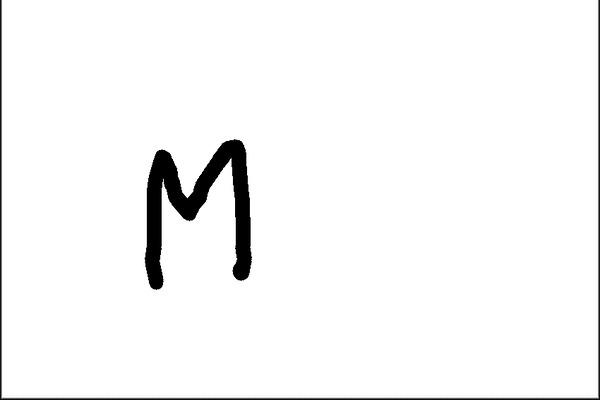M: (134, 133, 266, 286)
